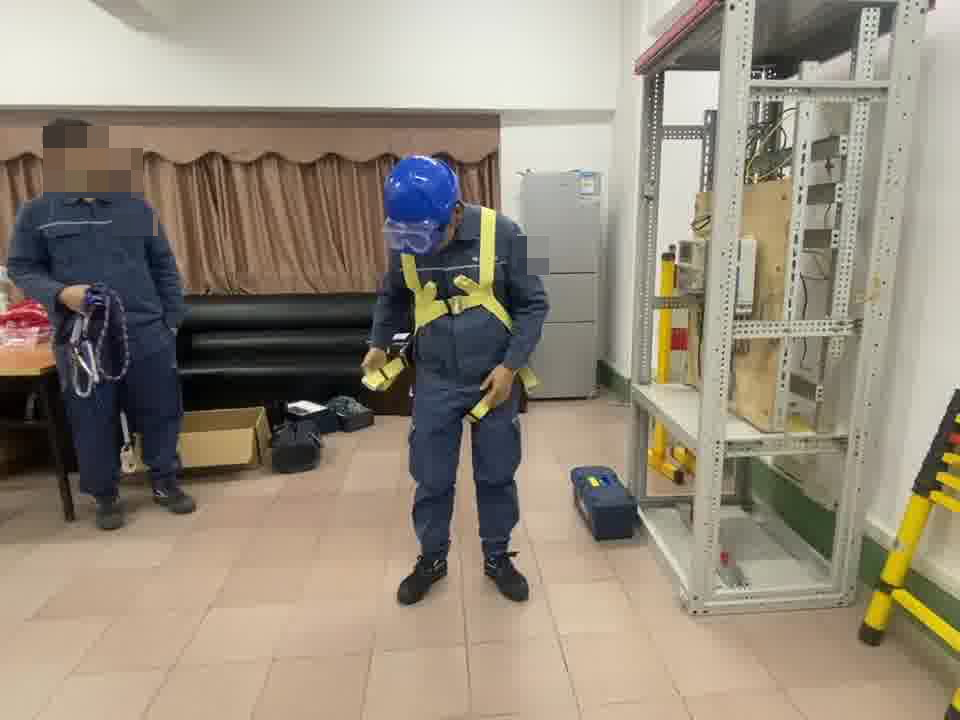downsuit: (404, 396, 527, 559), (71, 339, 184, 493)
halt: (383, 154, 460, 249), (44, 113, 113, 195)
hand: (480, 361, 525, 409), (54, 279, 90, 312), (360, 341, 389, 374)
noear: (43, 147, 70, 172)
person: (360, 150, 549, 613), (9, 114, 198, 517)
safebelt: (369, 200, 544, 423)
unhalt: (44, 114, 114, 194)
upsuit: (376, 202, 540, 351), (14, 188, 183, 331)
